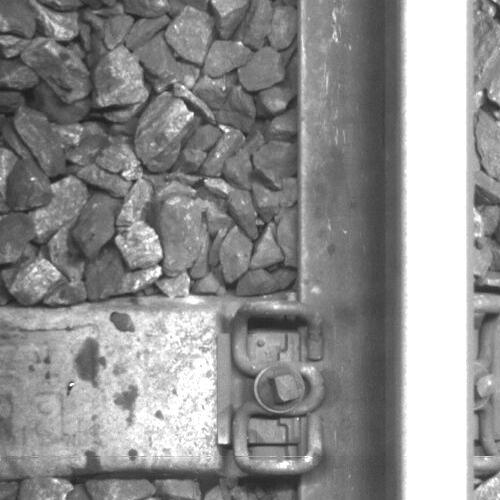rail: (400, 1, 474, 500)
tie_concr: (1, 305, 298, 471)
vossloh: (218, 299, 325, 474)
